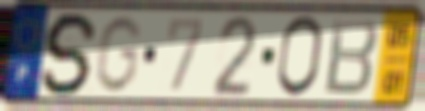2: (211, 13, 259, 99)
7: (164, 15, 206, 95)
B: (322, 16, 381, 99)
G: (92, 13, 145, 96)
O: (274, 13, 326, 101)
S: (39, 9, 102, 98)
